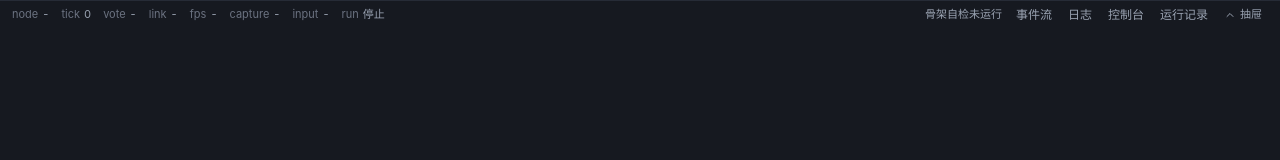
it: 底部调试抽屉 › 收起时不挂事件列表/不格式化；全局继续收集，再打开保留事件
Click the button "事件流": click(1034, 14) [1010,4,1058,24]
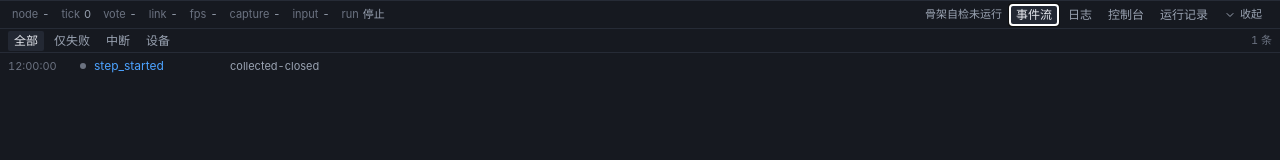
Now the text "1 条" is shown, box [1251,32,1272,49]
Click the button "事件流": click(1034, 14) [1010,4,1058,24]
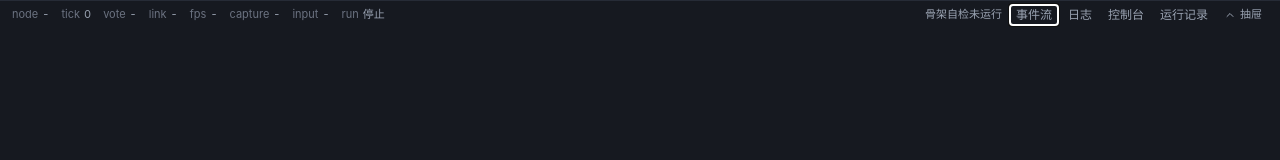
Expected: the text "2 条" is not shown
Click the button "事件流": click(1034, 14) [1010,4,1058,24]
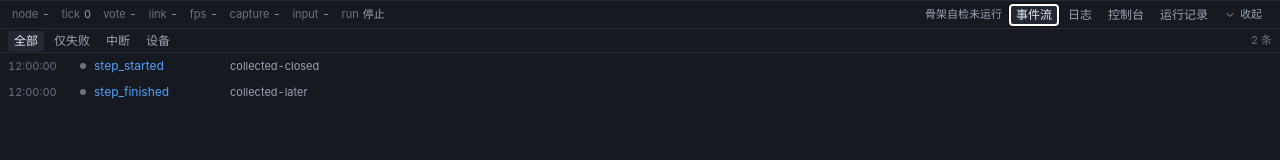
Now the text "2 条" is shown, box [1251,32,1272,49]
